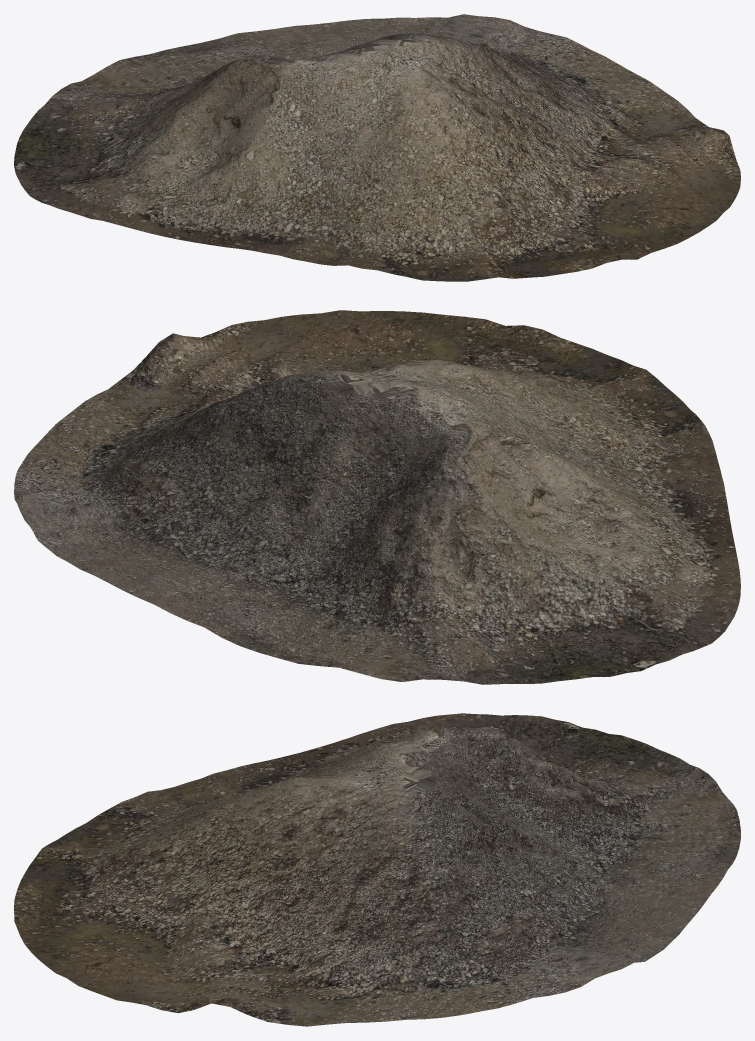
File: gravel.glb
3 views of the same model, one above another, from view 1: azimuth 30°, elevation 25°; view 2: azimuth 150°, elevation 25°; view 3: azimuth 270°, elevation 25° (orthographic). The views are drawn at different scales.
Parts seen in each view (by area): view 1: Plane001_modeling mat 01_0; view 2: Plane001_modeling mat 01_0; view 3: Plane001_modeling mat 01_0.
Boxes of the visible parts, x1,y1,x2,y2 form: Plane001_modeling mat 01_0: [14, 14, 740, 281]; Plane001_modeling mat 01_0: [14, 310, 740, 684]; Plane001_modeling mat 01_0: [14, 713, 740, 1026].
Size of the model in its own units: 7726 by 1352 by 7586.
Materials: 1 (1 with a texture image).
